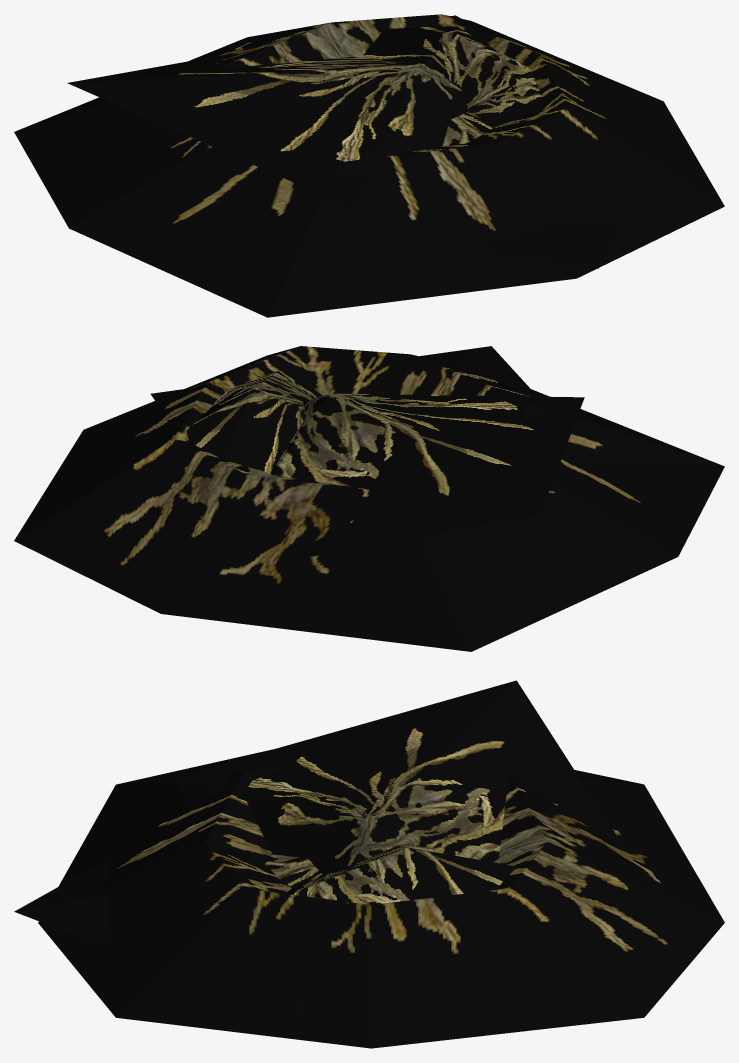
Rendered from bg_anh_foliage_te_b29_sm_old.FBX.
3 renders of one model, top to bottom at view 1: azimuth 30°, elevation 25°; view 2: azimuth 150°, elevation 25°; view 3: azimuth 270°, elevation 25°, orthographic. The views are drawn at different scales.
Parts seen in each view (by area): view 1: bg_anh_foliage_te_b29_sm_old; view 2: bg_anh_foliage_te_b29_sm_old; view 3: bg_anh_foliage_te_b29_sm_old.
Part boxes in pixels (x1,y1,x2,y2): bg_anh_foliage_te_b29_sm_old: (14, 14, 724, 317); bg_anh_foliage_te_b29_sm_old: (14, 346, 724, 651); bg_anh_foliage_te_b29_sm_old: (14, 680, 724, 1048).
Size of the model in its own units: 163 by 30.52 by 162.
